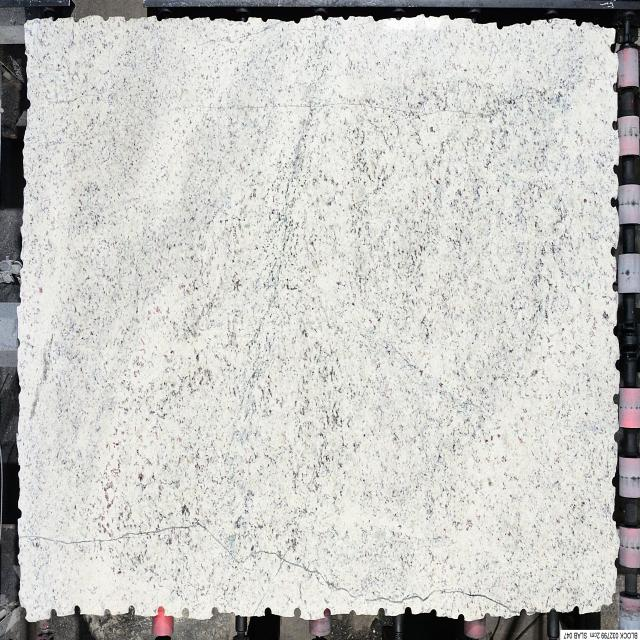chapa: (18, 16, 619, 621)
